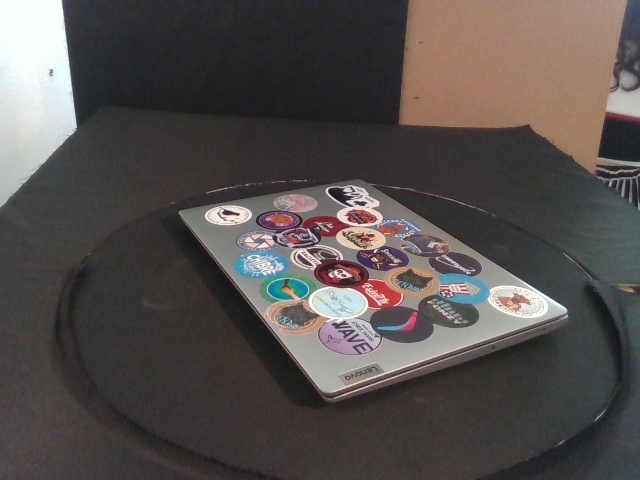laptop: (178, 177, 569, 405)
